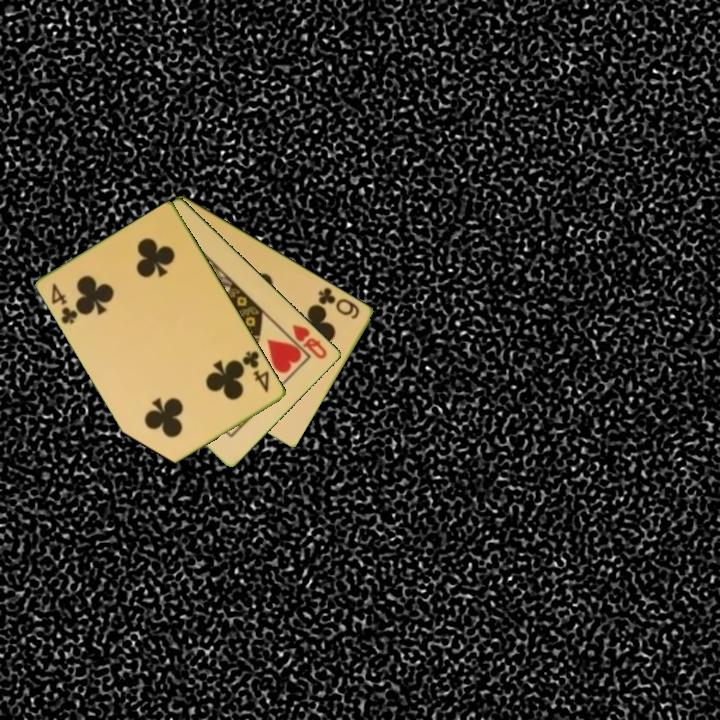4c: (239, 347, 273, 395), (48, 280, 81, 327)
6c: (315, 284, 363, 322)
Qh: (289, 321, 330, 362)
